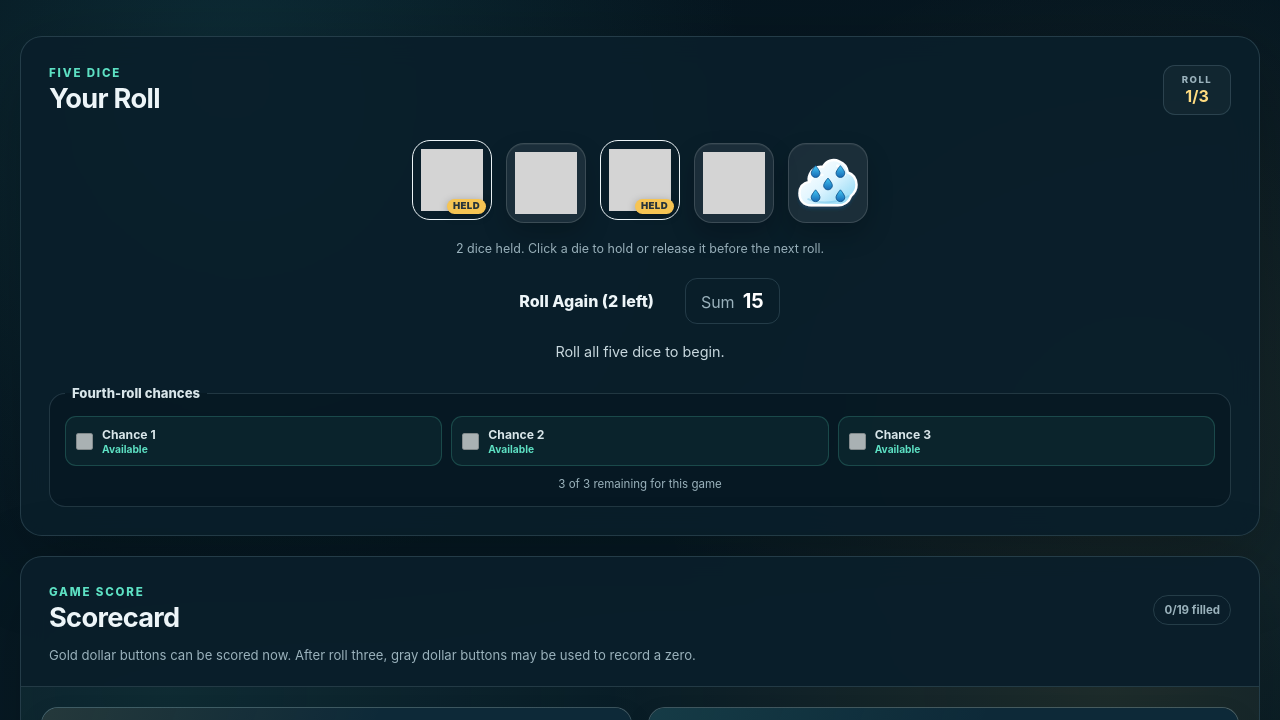
Test: dice roll animation › tumbles only unheld dice in the sky theme without changing results or saving extra state
Click the button "Roll Again (2 left)".
click(587, 301)  # box x1=500 y1=278 x2=673 y2=324
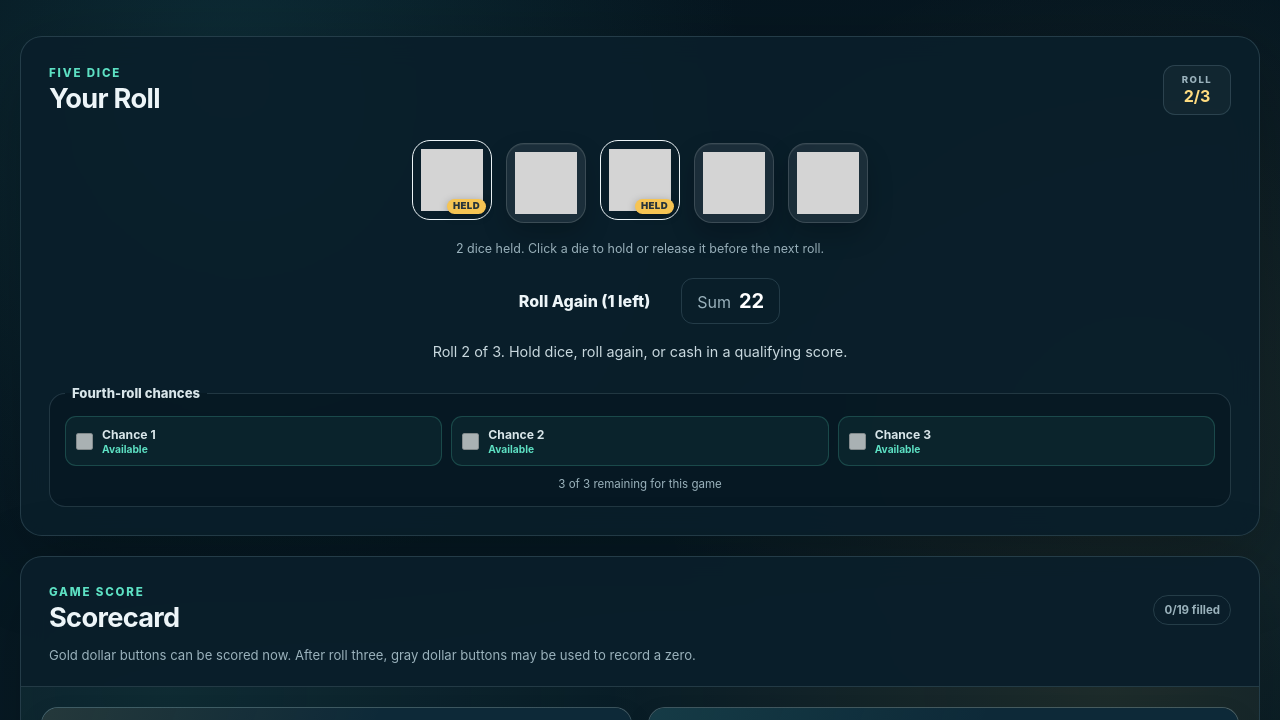
Expected: the element named "Dice total 22" is shown, x1=412 y1=140 x2=868 y2=223
